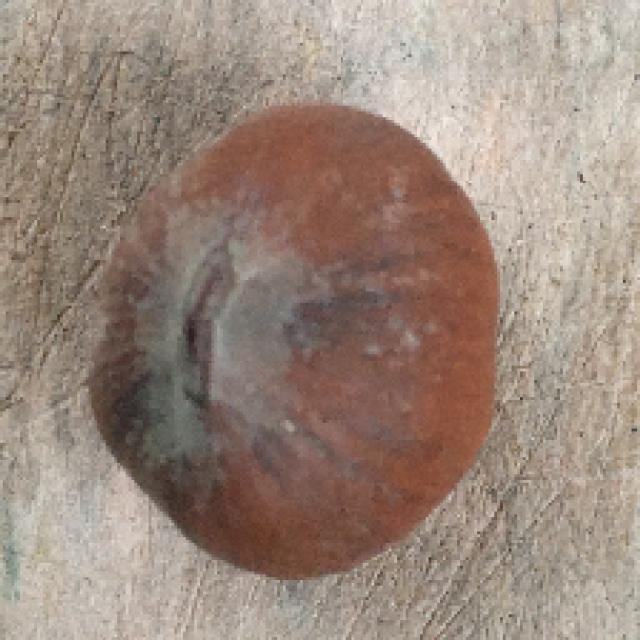qualityHazelnut: (84, 90, 502, 590)
